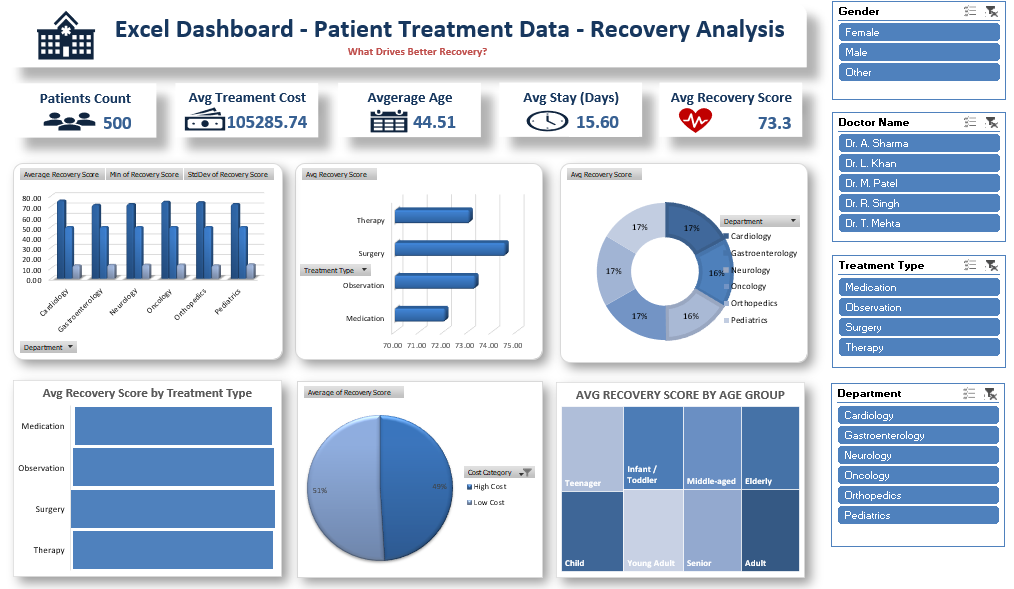

Layout of this report page (visuals, bound fields, positions):
{"tool":"powerbi","page":{"name":"Page 1","canvas":[1280,720],"ordinal":0},"visuals":[{"type":"textbox","box":[13.8,10.7,966.5,93.3],"z":0},{"type":"shape","box":[994,10.4,274.6,698.5],"z":1000},{"type":"image","box":[1048.3,10,166.7,146.7],"z":2000},{"type":"cardVisual","fields":{"Data":["Sum(Measure Tables.Num. Patients)"]},"box":[13.4,120.9,180.6,104.5],"z":3000},{"type":"cardVisual","fields":{"Data":["Measure Tables.Avg Age"]},"box":[210.4,120.9,180.6,104.5],"z":4000},{"type":"cardVisual","fields":{"Data":["Measure Tables.Avg Stay"]},"box":[406,120.9,180.6,104.5],"z":5000},{"type":"cardVisual","fields":{"Data":["Avg(HospitalData.Recovery Score)"]},"box":[603,120.9,180.6,104.5],"z":6000},{"type":"cardVisual","fields":{"Data":["Avg(HospitalData.Treatment Cost)"]},"box":[800,120.9,180.6,104.5],"z":7000},{"type":"slicer","fields":{"Values":["HospitalData.Department"]},"box":[1017.9,173.1,229.7,88.2],"z":8000},{"type":"slicer","fields":{"Values":["HospitalData.Doctor Name"]},"box":[1017.5,286.2,230,87.5],"z":9000},{"type":"slicer","fields":{"Values":["HospitalData.Gender"]},"box":[1017.5,401.2,230,86.2],"z":10000},{"type":"slicer","fields":{"Values":["HospitalData.Treatment Type"]},"box":[1016.7,514.4,230,85.6],"z":11000},{"type":"clusteredColumnChart","title":"Recovery Score by Department","fields":{"Category":["HospitalData.Department"],"Y":["Measure Tables.Avg Recovery Score","Min(HospitalData.Recovery Score)","Max(HospitalData.Recovery Score)"]},"box":[13.3,250,316.7,218.3],"z":12000},{"type":"clusteredBarChart","fields":{"Category":["HospitalData.Doctor Name"],"Y":["Measure Tables.Avg Recovery Score"]},"box":[360,250,315,218.3],"z":13000},{"type":"donutChart","fields":{"Category":["HospitalData.Gender"],"Y":["Measure Tables.Avg Recovery Score"]},"box":[693.8,250.5,286.6,218.6],"z":14000},{"type":"ribbonChart","title":"ARS by Treatment Type and Gender","fields":{"Category":["HospitalData.Treatment Type"],"Y":["Measure Tables.Avg Recovery Score"],"Series":["HospitalData.Gender"]},"box":[13.6,487.7,317.3,221],"z":15000},{"type":"columnChart","fields":{"Category":["HospitalData.Age (bins)"],"Y":["Measure Tables.Avg Recovery Score"],"Series":["HospitalData.Doctor Name"]},"box":[360,488,315,221],"z":16000},{"type":"columnChart","fields":{"Category":["HospitalData.Treatment Cost (bins)"],"Y":["Measure Tables.Avg Recovery Score"]},"box":[694,488,287,221],"z":17000}]}

Visuals, with their boxes on the page's 1280x720 design canvas (x1, y1, x2, y2). These are canvas units, not pixel positions in the 1014x589 screenshot, which may show the page scaled, cropped or inside an application window:
textbox: 14/11/980/104
shape: 994/10/1269/709
image: 1048/10/1215/157
cardVisual - Sum(Measure Tables.Num. Patients): 13/121/194/225
cardVisual - Measure Tables.Avg Age: 210/121/391/225
cardVisual - Measure Tables.Avg Stay: 406/121/587/225
cardVisual - Avg(HospitalData.Recovery Score): 603/121/784/225
cardVisual - Avg(HospitalData.Treatment Cost): 800/121/981/225
slicer - HospitalData.Department: 1018/173/1248/261
slicer - HospitalData.Doctor Name: 1018/286/1248/374
slicer - HospitalData.Gender: 1018/401/1248/487
slicer - HospitalData.Treatment Type: 1017/514/1247/600
"Recovery Score by Department" clusteredColumnChart: 13/250/330/468
clusteredBarChart - HospitalData.Doctor Name x Measure Tables.Avg Recovery Score: 360/250/675/468
donutChart - HospitalData.Gender x Measure Tables.Avg Recovery Score: 694/250/980/469
"ARS by Treatment Type and Gender" ribbonChart: 14/488/331/709
columnChart - HospitalData.Age (bins) x Measure Tables.Avg Recovery Score: 360/488/675/709
columnChart - HospitalData.Treatment Cost (bins) x Measure Tables.Avg Recovery Score: 694/488/981/709
